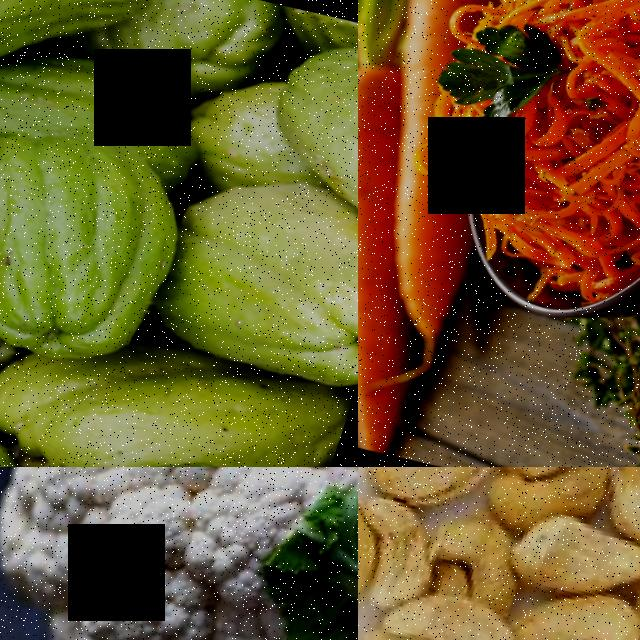carrot: (358, 0, 503, 248), (358, 0, 425, 354)
cashew: (508, 506, 640, 611), (358, 467, 531, 534), (402, 565, 538, 640), (510, 581, 638, 640), (596, 467, 640, 551)
cauliflower: (0, 467, 358, 640)
chayote: (0, 73, 181, 377), (145, 164, 358, 403), (229, 6, 358, 228), (0, 0, 162, 139), (0, 417, 327, 467)
